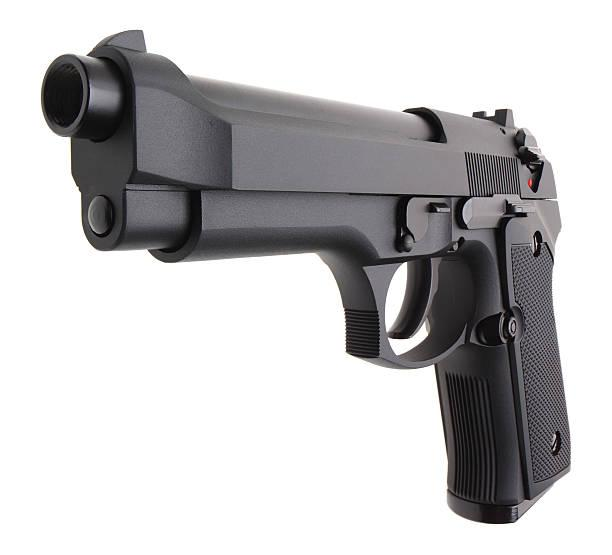weapon: (38, 28, 576, 525)
